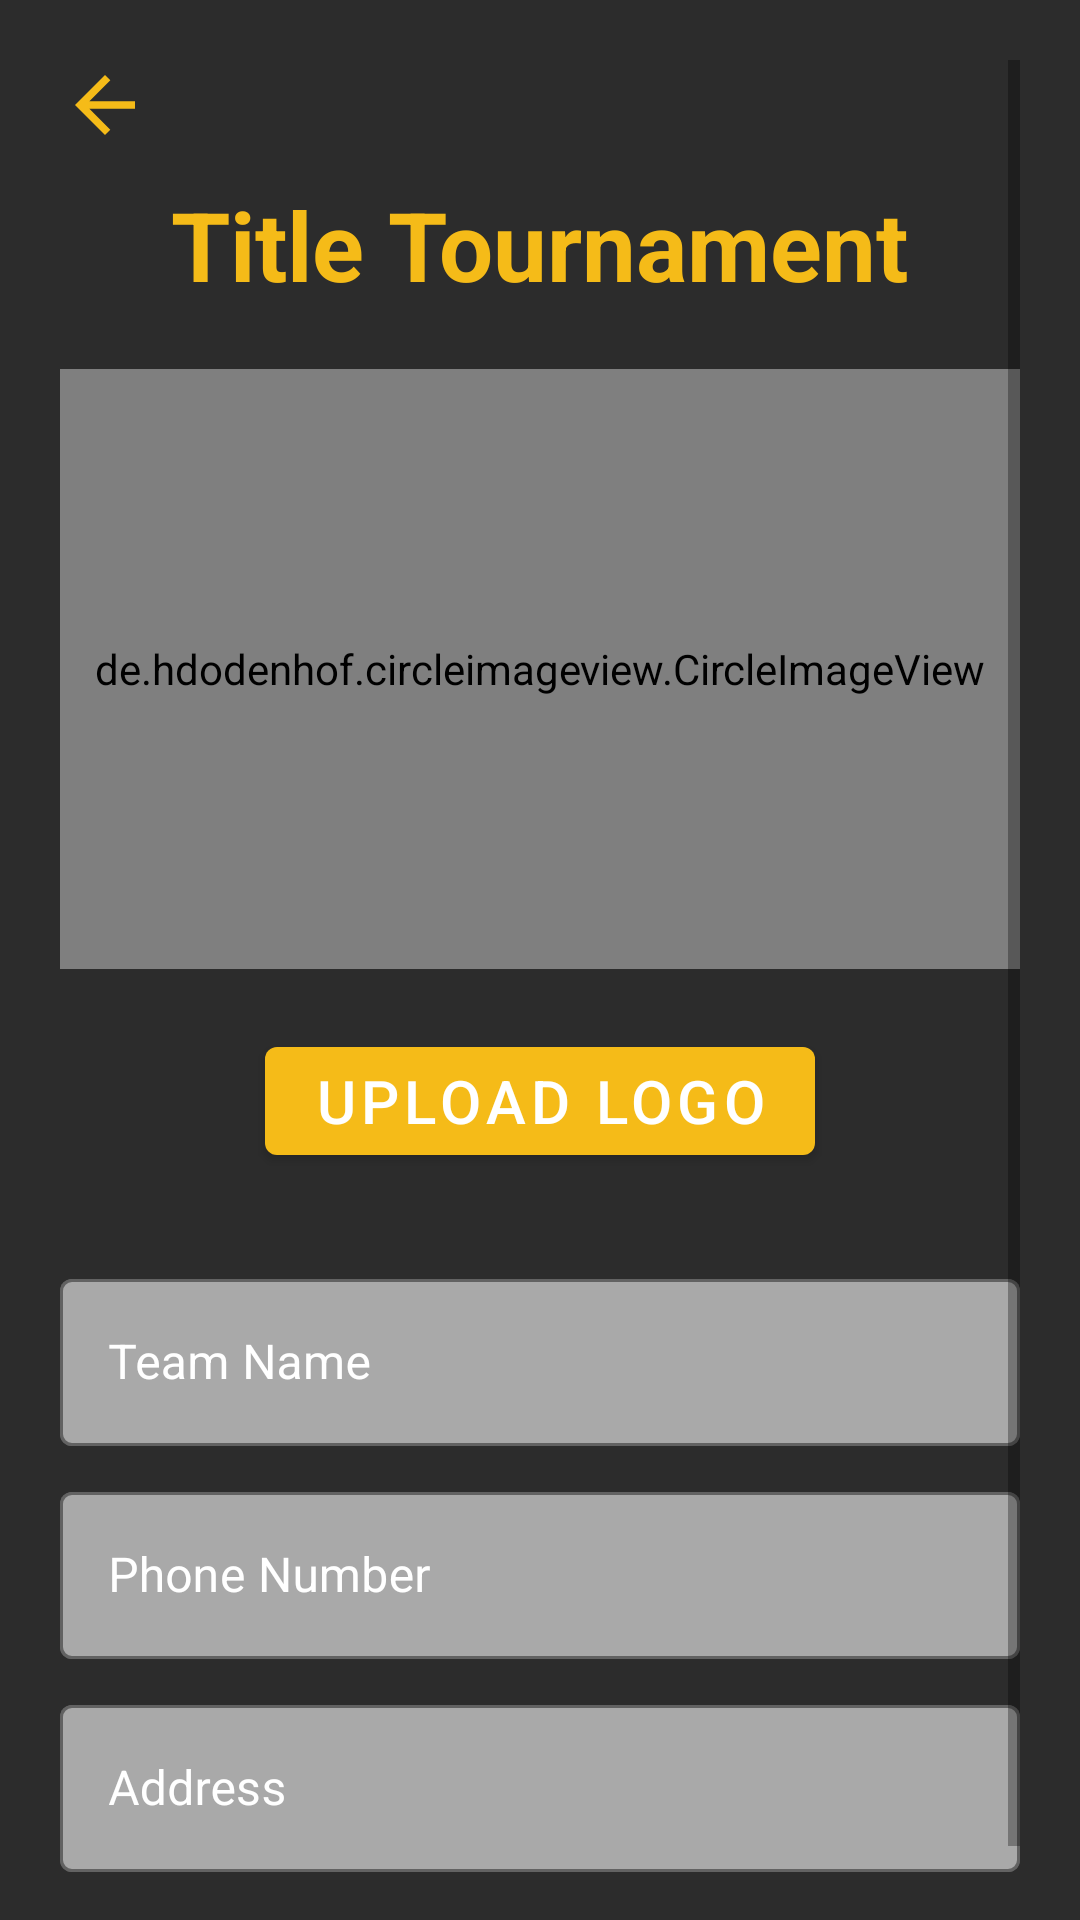

Where icons sit on this 1080 × 1920 app screen, as (x1, y1, x2, y2):
arrow back: (75, 75, 135, 135)
